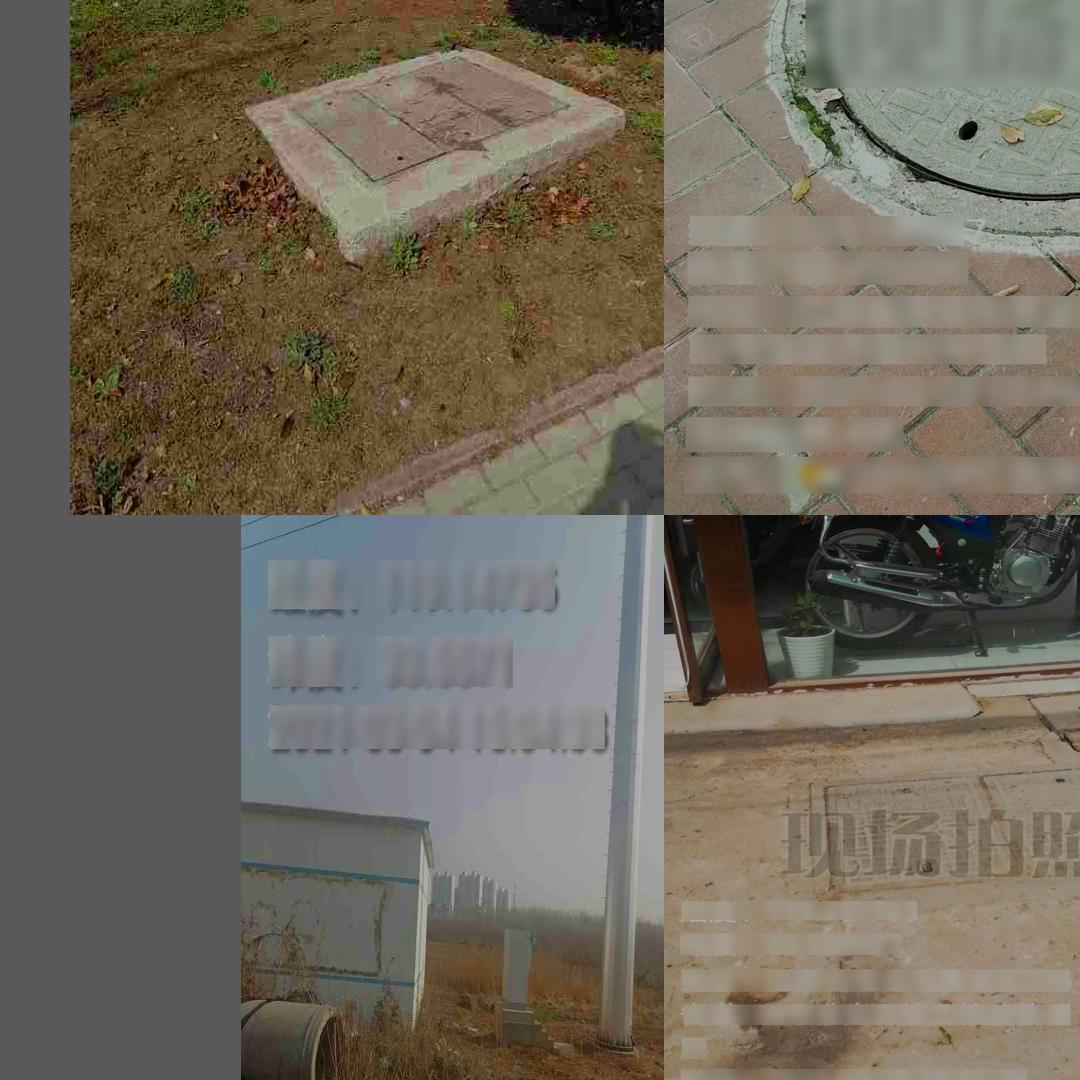good: (778, 0, 1080, 241), (286, 54, 573, 188), (803, 773, 1080, 894)
